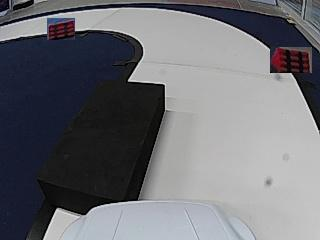block: (40, 81, 163, 205)
